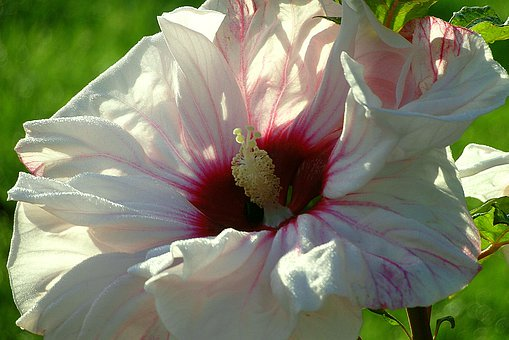Hibiscus: (1, 1, 509, 340)
